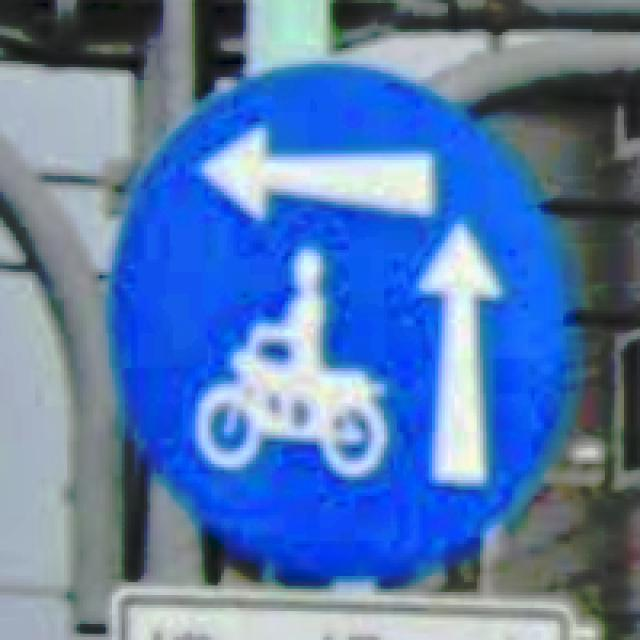twostageturn: (109, 61, 570, 582)
